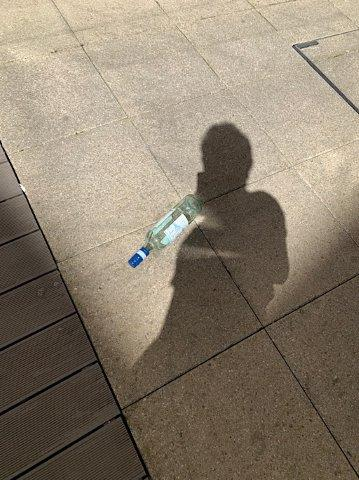botolkaca: (127, 195, 203, 271)
